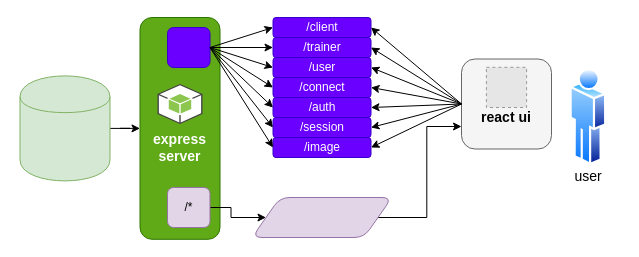
Some shapes in this 639 by 257 pixel diagram are drawn without their labels. Grey dashed boxes stand in for pictures. The centre of each missing label's shape, as x and y in pixels:
"/api" goes at point 188,47.
"index.html" goes at point 321,217.
"mongodb" goes at point 64,128.
